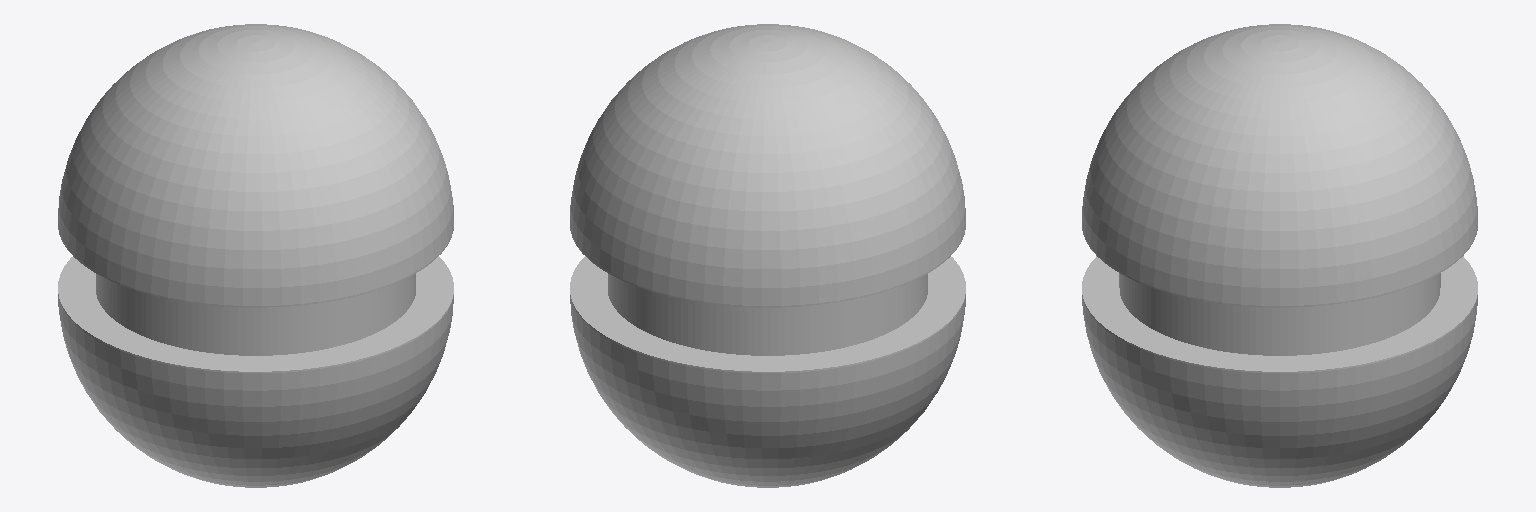
Rendered from droid_anim_000016.obj.
The picture shows the model from 3 angles: view 1: azimuth 30°, elevation 25°; view 2: azimuth 150°, elevation 25°; view 3: azimuth 270°, elevation 25°; orthographic projection.
Visible parts, largest first — view 1: Sphere.004, Sphere.005, Cylinder.002; view 2: Sphere.004, Sphere.005, Cylinder.002; view 3: Sphere.004, Sphere.005, Cylinder.002.
Part boxes in pixels (x1,y1,x2,y2): Sphere.004: (58, 24, 453, 307); Sphere.005: (58, 256, 453, 487); Cylinder.002: (96, 274, 415, 355); Sphere.004: (570, 24, 965, 307); Sphere.005: (570, 256, 965, 487); Cylinder.002: (608, 274, 927, 355); Sphere.004: (1082, 24, 1477, 307); Sphere.005: (1082, 256, 1477, 487); Cylinder.002: (1119, 273, 1440, 355).
Size of the model in its own units: 2 by 2.37 by 2.